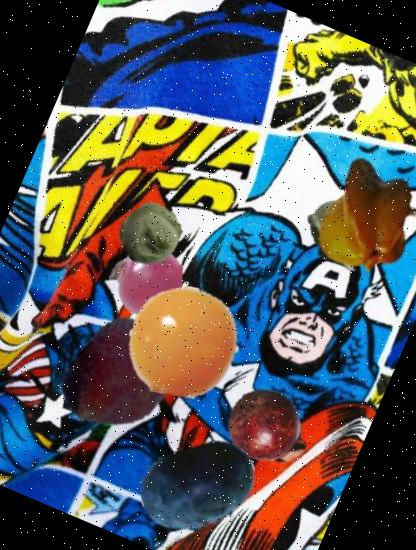Blueberry: (120, 410, 276, 550)
Carambula: (296, 144, 416, 290)
Kohlrabi: (292, 184, 392, 285), (108, 193, 192, 277)
Mangostan: (210, 374, 322, 485)
Physalis: (111, 269, 255, 413)
Redcurrant: (97, 233, 194, 330)
Salak: (40, 300, 196, 454)
